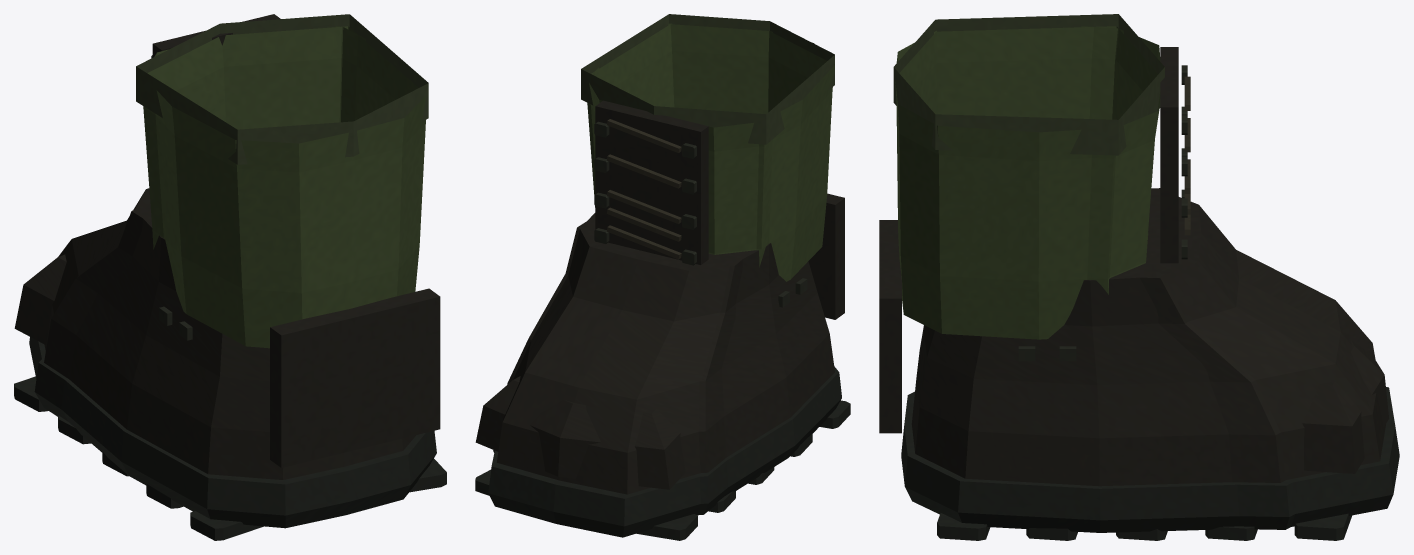
The model's file is boots_jungle.glb.
3 views of the same model, side by side, from view 1: azimuth 30°, elevation 25°; view 2: azimuth 150°, elevation 25°; view 3: azimuth 270°, elevation 25° (orthographic). The views are drawn at different scales.
Visible parts, largest first — view 1: boots_jungle_footL_LOD0_RAID_leather, boots_jungle_footL_LOD0_RAID_jungle_cloth, boots_jungle_footL_LOD1_RAID_leather, boots_jungle_footL_LOD0_RAID_rubber, boots_jungle_footL_LOD1_RAID_jungle_cloth, boots_jungle_footL_LOD0_RAID_reinforce, boots_jungle_footL_LOD1_RAID_rubber; view 2: boots_jungle_footL_LOD0_RAID_leather, boots_jungle_footL_LOD0_RAID_jungle_cloth, boots_jungle_footL_LOD1_RAID_jungle_cloth, boots_jungle_footL_LOD0_RAID_rubber, boots_jungle_footL_LOD1_RAID_leather, boots_jungle_footL_LOD0_RAID_reinforce, boots_jungle_footL_LOD0_RAID_lace, boots_jungle_footL_LOD0_RAID_zip, boots_jungle_footL_LOD1_RAID_rubber, boots_jungle_footL_LOD1_RAID_lace; view 3: boots_jungle_footL_LOD0_RAID_leather, boots_jungle_footL_LOD0_RAID_jungle_cloth, boots_jungle_footL_LOD0_RAID_rubber, boots_jungle_footL_LOD1_RAID_jungle_cloth, boots_jungle_footL_LOD1_RAID_leather, boots_jungle_footL_LOD0_RAID_reinforce, boots_jungle_footL_LOD1_RAID_rubber, boots_jungle_footL_LOD0_RAID_zip, boots_jungle_footL_LOD0_RAID_lace.
Part boxes in pixels (<box>): boots_jungle_footL_LOD0_RAID_leather: <box>14,17,440,479</box>; boots_jungle_footL_LOD0_RAID_jungle_cloth: <box>154,26,426,348</box>; boots_jungle_footL_LOD1_RAID_leather: <box>44,14,440,467</box>; boots_jungle_footL_LOD0_RAID_rubber: <box>14,337,446,540</box>; boots_jungle_footL_LOD1_RAID_jungle_cloth: <box>143,26,418,249</box>; boots_jungle_footL_LOD0_RAID_reinforce: <box>136,14,428,164</box>; boots_jungle_footL_LOD1_RAID_rubber: <box>34,359,235,477</box>; boots_jungle_footL_LOD0_RAID_leather: <box>475,103,844,494</box>; boots_jungle_footL_LOD0_RAID_jungle_cloth: <box>589,23,834,281</box>; boots_jungle_footL_LOD1_RAID_jungle_cloth: <box>587,24,826,267</box>; boots_jungle_footL_LOD0_RAID_rubber: <box>475,366,850,540</box>; boots_jungle_footL_LOD1_RAID_leather: <box>507,100,844,472</box>; boots_jungle_footL_LOD0_RAID_reinforce: <box>581,14,834,144</box>; boots_jungle_footL_LOD0_RAID_lace: <box>607,119,681,259</box>; boots_jungle_footL_LOD0_RAID_zip: <box>594,121,807,305</box>; boots_jungle_footL_LOD1_RAID_rubber: <box>493,371,835,515</box>; boots_jungle_footL_LOD1_RAID_lace: <box>607,207,681,241</box>; boots_jungle_footL_LOD0_RAID_leather: <box>879,53,1388,486</box>; boots_jungle_footL_LOD0_RAID_jungle_cloth: <box>895,26,1160,339</box>; boots_jungle_footL_LOD0_RAID_rubber: <box>901,387,1399,540</box>; boots_jungle_footL_LOD1_RAID_jungle_cloth: <box>899,26,1158,294</box>; boots_jungle_footL_LOD1_RAID_leather: <box>879,47,1285,482</box>; boots_jungle_footL_LOD0_RAID_reinforce: <box>893,14,1164,155</box>; boots_jungle_footL_LOD1_RAID_rubber: <box>904,418,1301,529</box>; boots_jungle_footL_LOD0_RAID_zip: <box>1181,65,1187,259</box>; boots_jungle_footL_LOD0_RAID_lace: <box>1184,76,1190,235</box>.
Size of the model in its own units: 0.202 by 0.3015 by 0.3435.
6 materials, 6 textured.
